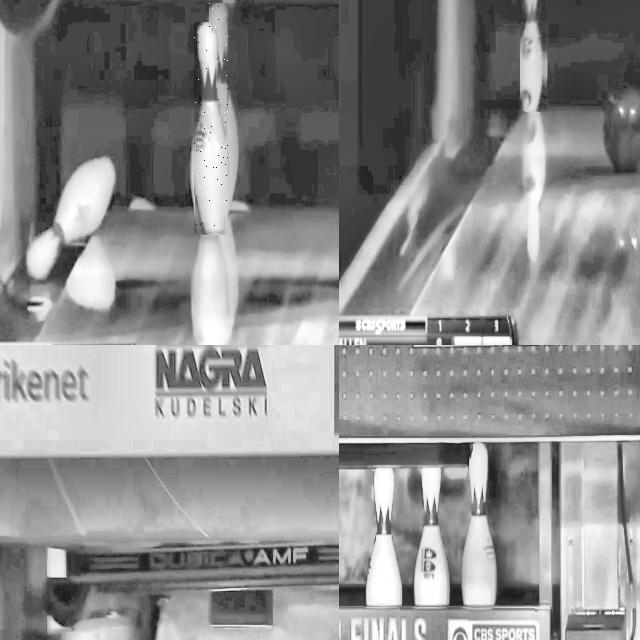bowling-ball: (603, 88, 640, 172)
bowling-pins: (195, 22, 225, 233), (462, 442, 498, 605), (366, 467, 403, 606), (415, 467, 450, 605), (209, 4, 228, 210), (521, 0, 544, 111)
sweep board: (339, 608, 552, 640)
